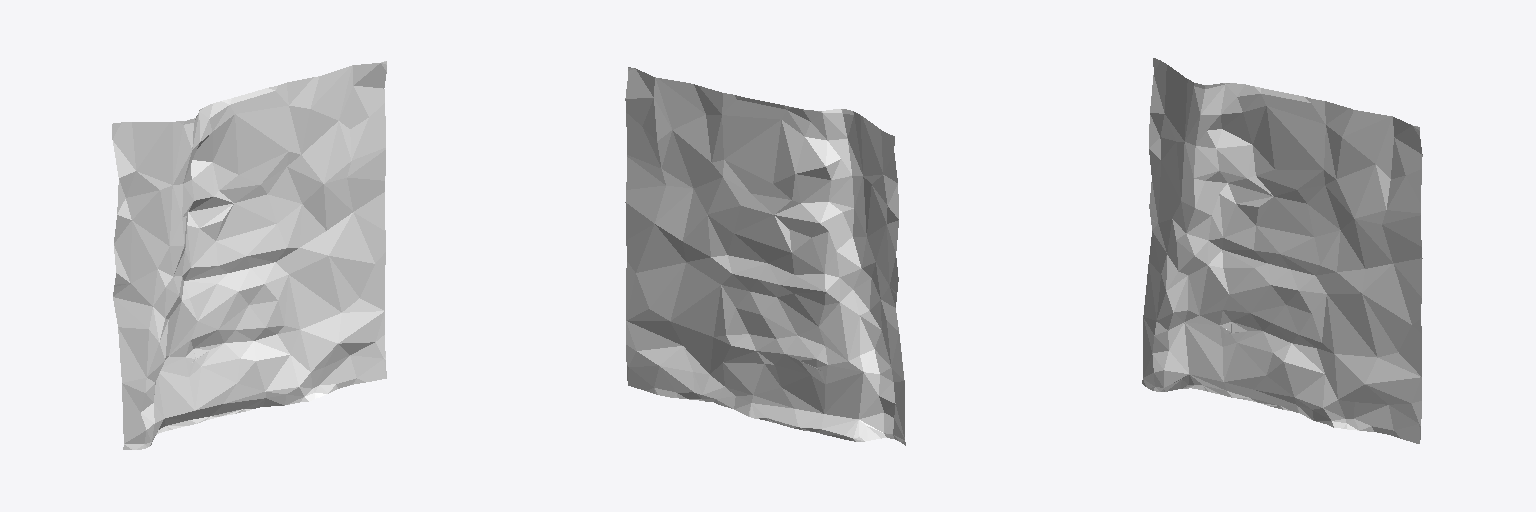
Rendered from tile_4_0_20_tex.obj.
3 views of the same model, side by side, from view 1: azimuth 30°, elevation 25°; view 2: azimuth 150°, elevation 25°; view 3: azimuth 330°, elevation 25° (orthographic).
Parts seen in each view (by area): view 1: obj_0; view 2: obj_0; view 3: obj_0.
Boxes of the visible parts, x1=… form: obj_0: x1=112, y1=61, x2=386, y2=449; obj_0: x1=625, y1=67, x2=905, y2=445; obj_0: x1=1142, y1=58, x2=1422, y2=443.
Size of the model in its own units: 10.04 by 11.26 by 1.1.